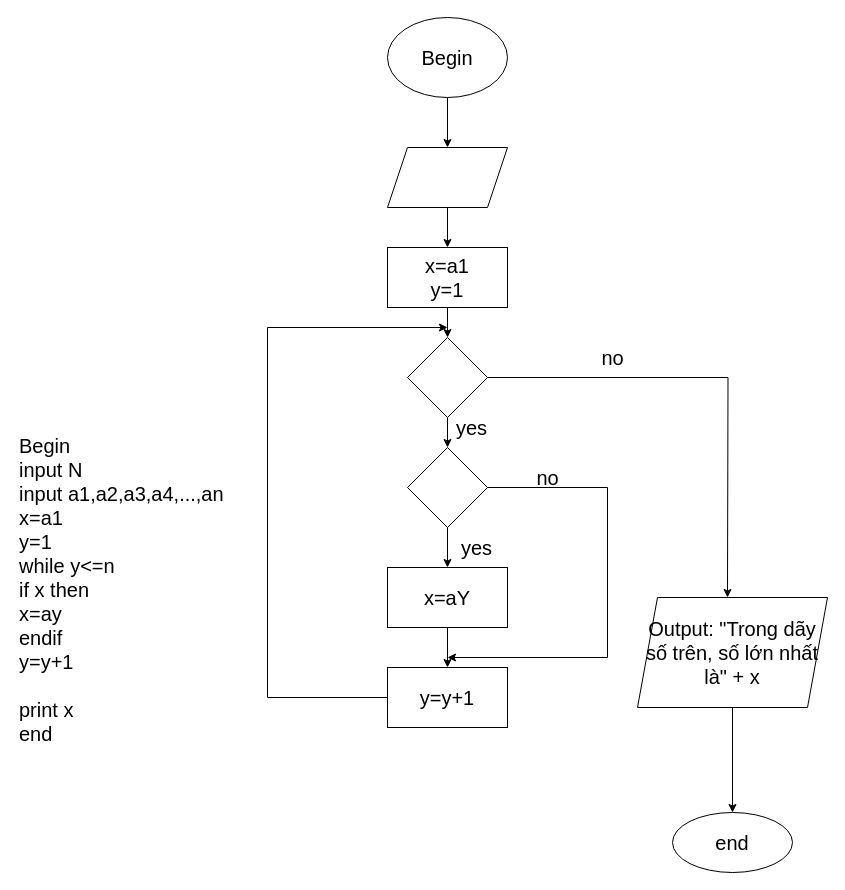
This 845x890 diagram has some shape labels left out. The box of each missing label's shape, as (x1, y1, x2, y2) in pixels:
Input N a1, a2,a3,... an: (386, 146, 508, 208)
x<ay: (406, 446, 488, 528)
y=<n: (406, 336, 488, 418)
